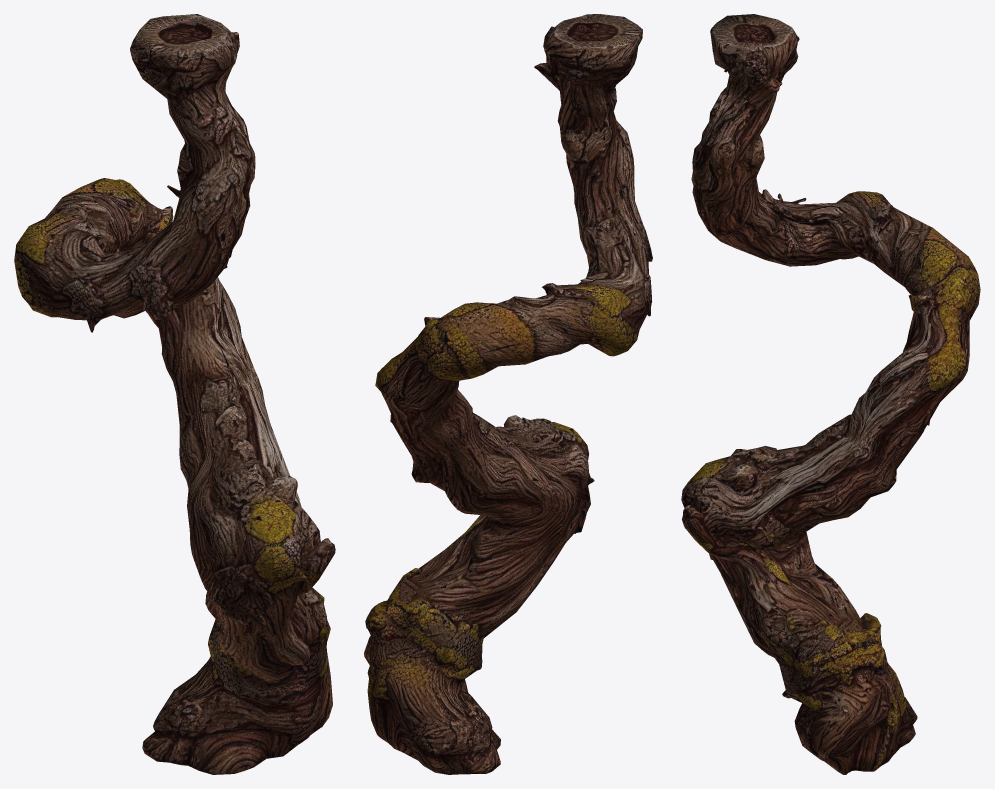
Rendered from branch_v1.glb.
3 renders of one model, left to right at view 1: azimuth 30°, elevation 25°; view 2: azimuth 150°, elevation 25°; view 3: azimuth 270°, elevation 25°, orthographic. The views are drawn at different scales.
Visible parts, largest first — view 1: tripo_node_c3fdc624-b1d1-4262-a697-4e50f83b5e05; view 2: tripo_node_c3fdc624-b1d1-4262-a697-4e50f83b5e05; view 3: tripo_node_c3fdc624-b1d1-4262-a697-4e50f83b5e05.
Boxes of the visible parts, left/top/right/bottom form: tripo_node_c3fdc624-b1d1-4262-a697-4e50f83b5e05: left=14, top=14, right=335, bottom=774; tripo_node_c3fdc624-b1d1-4262-a697-4e50f83b5e05: left=364, top=14, right=652, bottom=774; tripo_node_c3fdc624-b1d1-4262-a697-4e50f83b5e05: left=681, top=14, right=980, bottom=774.
Bounding box in the file's own units: 0.3885 × 0.9738 × 0.3935.
Materials: 1 (1 with a texture image).
